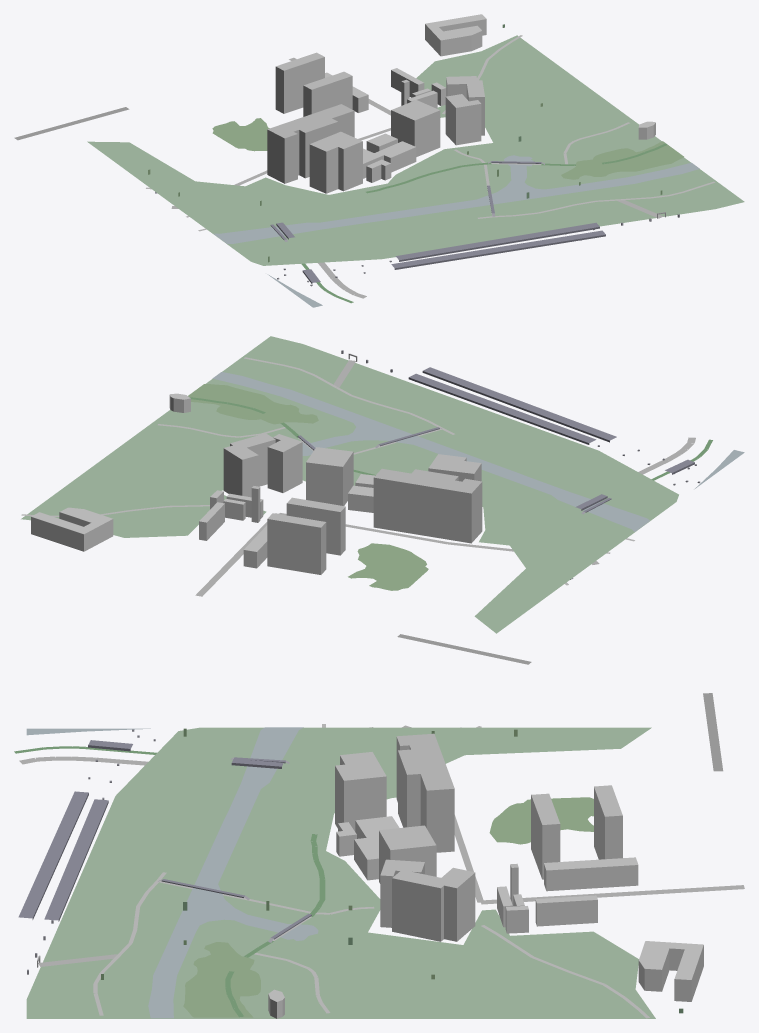
3 views of the same model, one above another, from view 1: azimuth 30°, elevation 25°; view 2: azimuth 150°, elevation 25°; view 3: azimuth 270°, elevation 25° (orthographic). The views are drawn at different scales.
Size of the model in its own units: 562 by 51.45 by 531.
